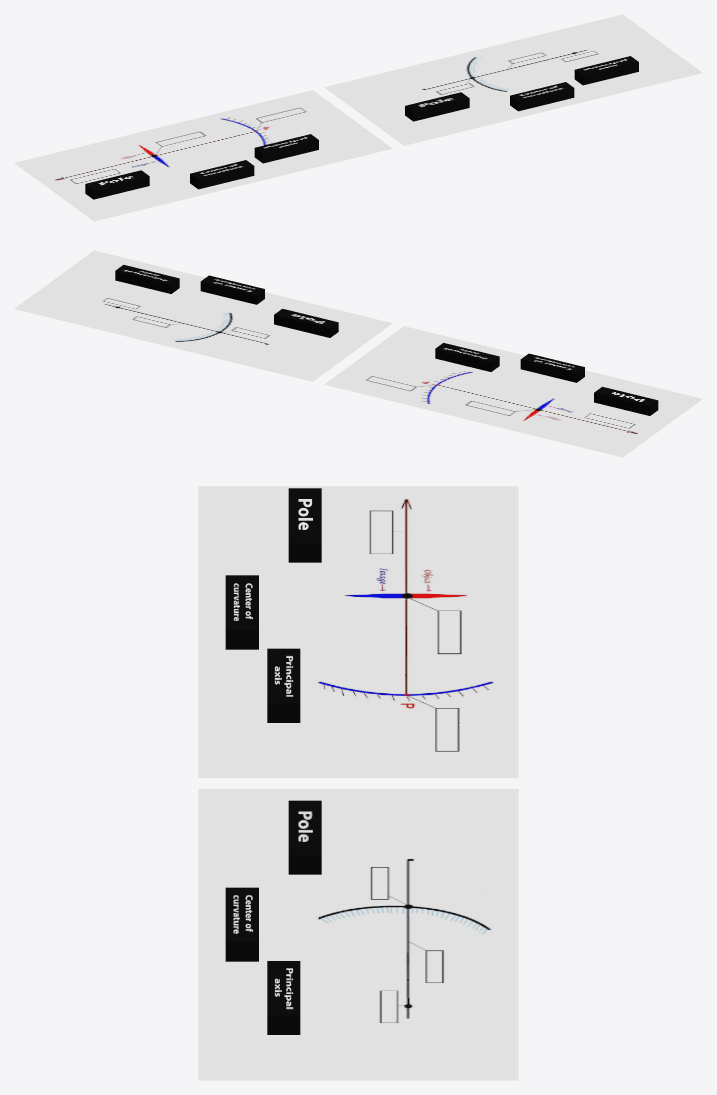
File: level 4.fbx
3 renders of one model, top to bottom at view 1: azimuth 30°, elevation 25°; view 2: azimuth 150°, elevation 25°; view 3: azimuth 270°, elevation 25°, orthographic. The views are drawn at different scales.
Parts seen in each view (by area): view 1: maxresdefault_image, convex_mirror_center_of_curvature, pole2, princple, pole1, princple1, center, center1; view 2: convex_mirror_center_of_curvature, maxresdefault_image, center, center1, princple1, pole2, pole1, princple; view 3: maxresdefault_image, convex_mirror_center_of_curvature, center, pole1, princple, center1, pole2, princple1.
Boxes of the visible parts, x1=… form: maxresdefault_image: x1=14, y1=90, x2=392, y2=221; convex_mirror_center_of_curvature: x1=324, y1=14, x2=702, y2=145; pole2: x1=405, y1=92, x2=469, y2=121; princple: x1=254, y1=134, x2=318, y2=163; pole1: x1=85, y1=170, x2=149, y2=199; princple1: x1=574, y1=56, x2=638, y2=85; center: x1=190, y1=160, x2=254, y2=189; center1: x1=510, y1=82, x2=574, y2=111; convex_mirror_center_of_curvature: x1=14, y1=250, x2=392, y2=381; maxresdefault_image: x1=324, y1=326, x2=702, y2=457; center: x1=520, y1=353, x2=584, y2=382; center1: x1=200, y1=275, x2=264, y2=304; princple1: x1=115, y1=264, x2=179, y2=293; pole2: x1=274, y1=308, x2=338, y2=337; pole1: x1=594, y1=386, x2=658, y2=415; princple: x1=435, y1=343, x2=499, y2=371; maxresdefault_image: x1=198, y1=486, x2=518, y2=777; convex_mirror_center_of_curvature: x1=198, y1=789, x2=518, y2=1080; center: x1=225, y1=575, x2=258, y2=649; pole1: x1=288, y1=488, x2=321, y2=562; princple: x1=267, y1=648, x2=300, y2=722; center1: x1=225, y1=887, x2=258, y2=961; pole2: x1=288, y1=800, x2=321, y2=874; princple1: x1=267, y1=961, x2=300, y2=1034.
Size of the model in its own units: 992 by 15.71 by 226.
5 materials, 5 textured.
